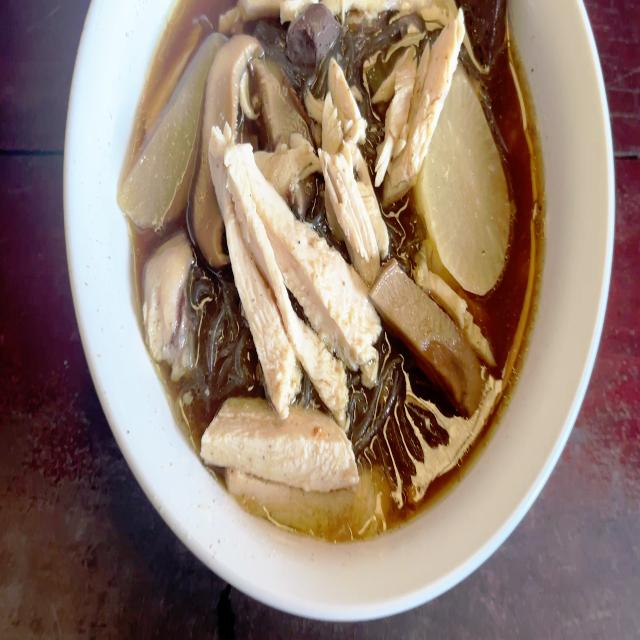boiled_chicken_blood_jelly: (294, 0, 338, 80), (463, 0, 509, 67)
chicken_shredded: (203, 120, 380, 399), (207, 390, 389, 550), (317, 54, 386, 253), (384, 13, 459, 180), (145, 243, 196, 356)
daikon_radish: (109, 35, 204, 228), (441, 92, 511, 270)
noodle: (124, 0, 544, 541)
